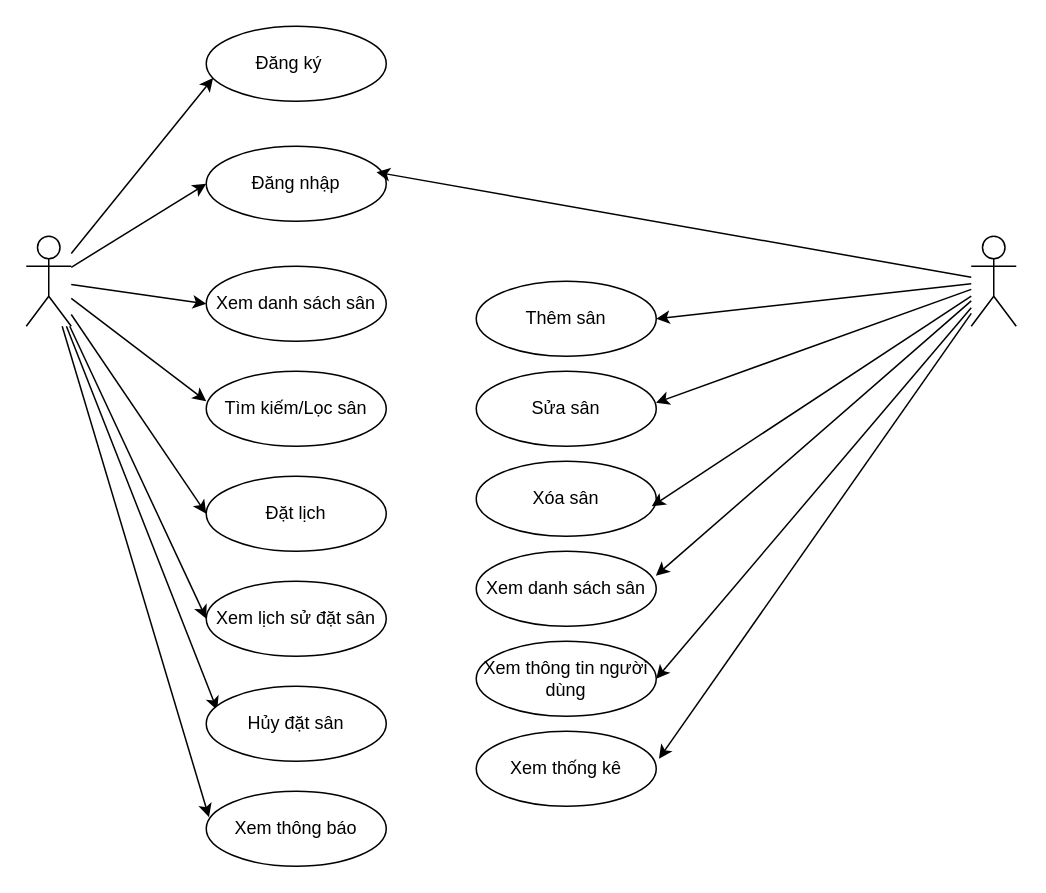
Some shapes in this 1046 by 893 pixel diagram are drawn without their labels. Each missing label, with the centre of its shape:
"Admin" belongs at (993,280).
"User" belongs at (48,280).
